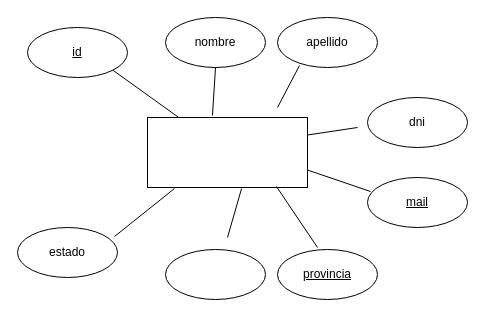
The diagram is 485 pixels wide and 317 high, and some of its shapes have lost their labels. Each missing label, with the centre of its shape:
CLIENTES: (227,152)
fecha alta: (215,274)
